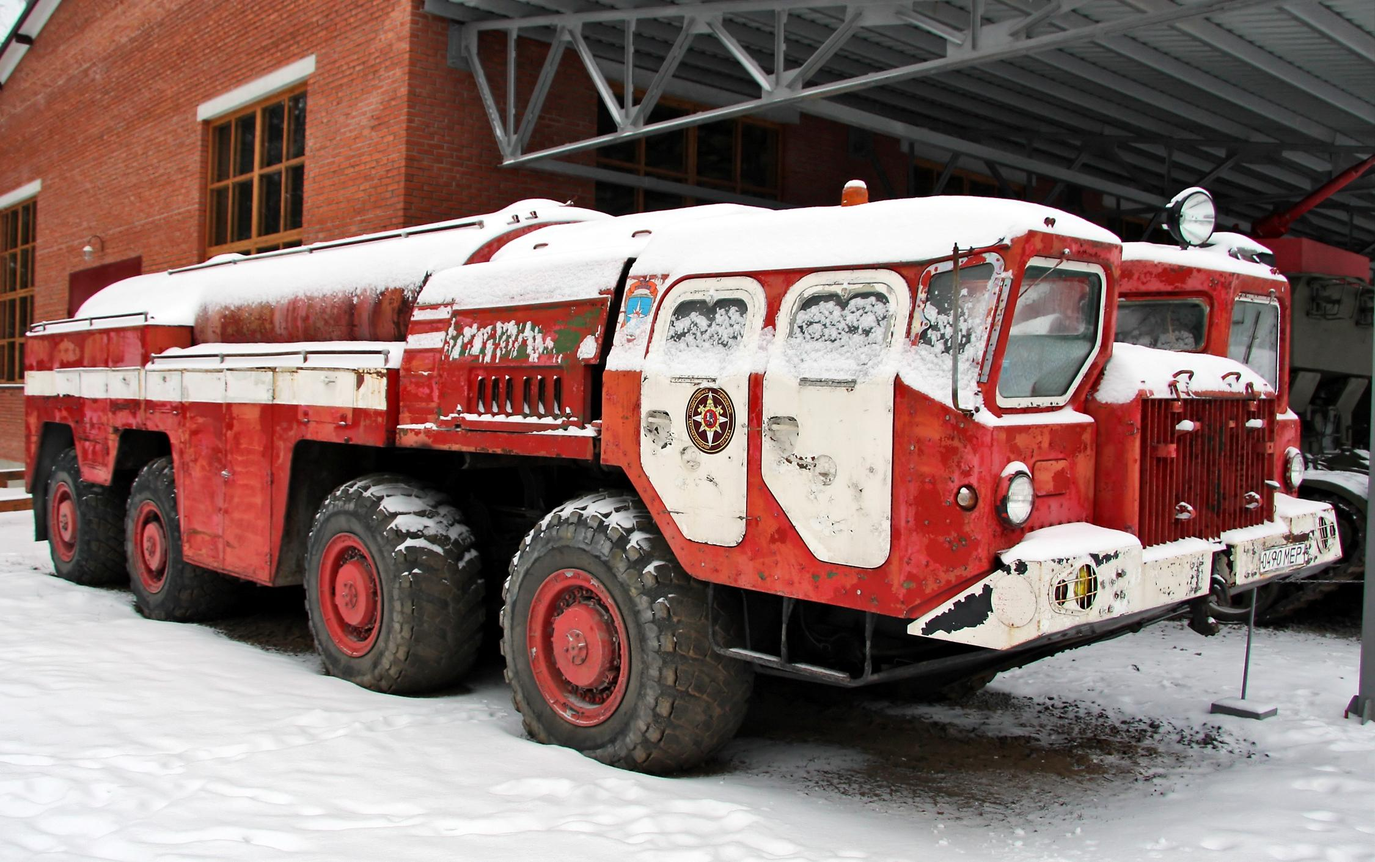Fire-engine: (21, 177, 1343, 775)
